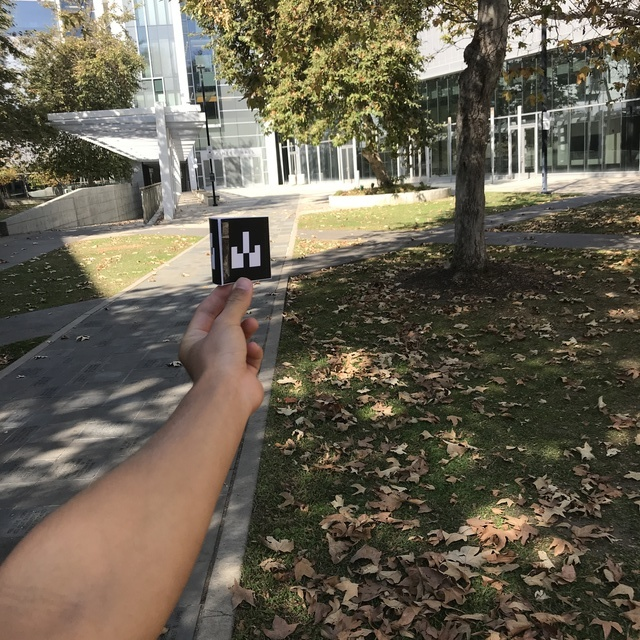ARTag: (208, 216, 273, 285)
